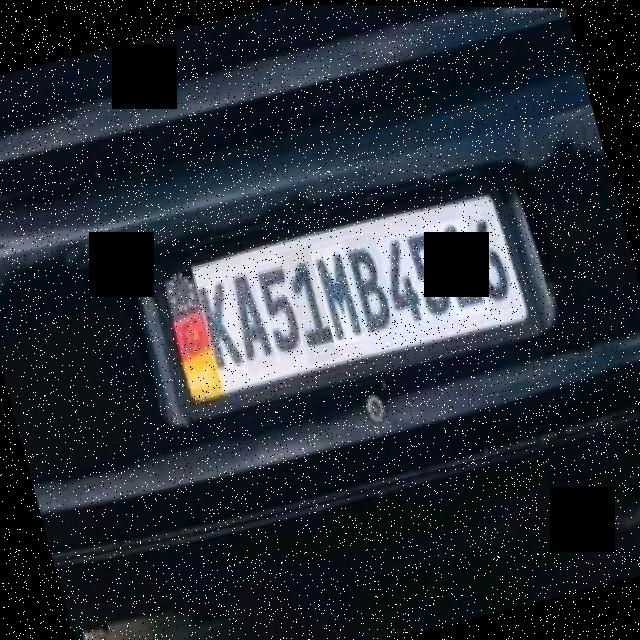1: (279, 243, 340, 364), (432, 216, 490, 319)
4: (374, 230, 426, 331)
5: (401, 218, 456, 323), (254, 258, 306, 360)
6: (466, 209, 517, 312)
A: (225, 270, 276, 373)
B: (340, 231, 399, 336)
K: (194, 279, 244, 371)
M: (311, 242, 368, 346)
